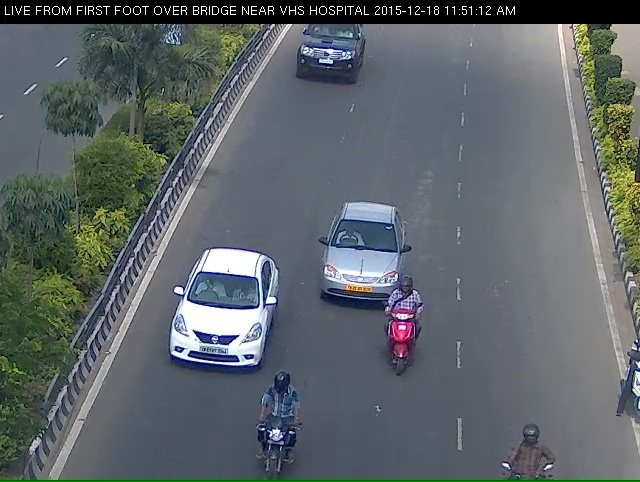Car: (161, 277, 270, 401), (326, 224, 399, 329), (293, 25, 363, 88)
Person: (381, 309, 425, 407), (244, 415, 291, 478)
